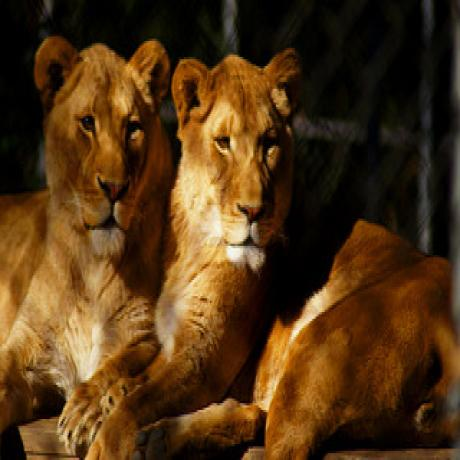Lion: (172, 45, 459, 460), (0, 31, 172, 460)
